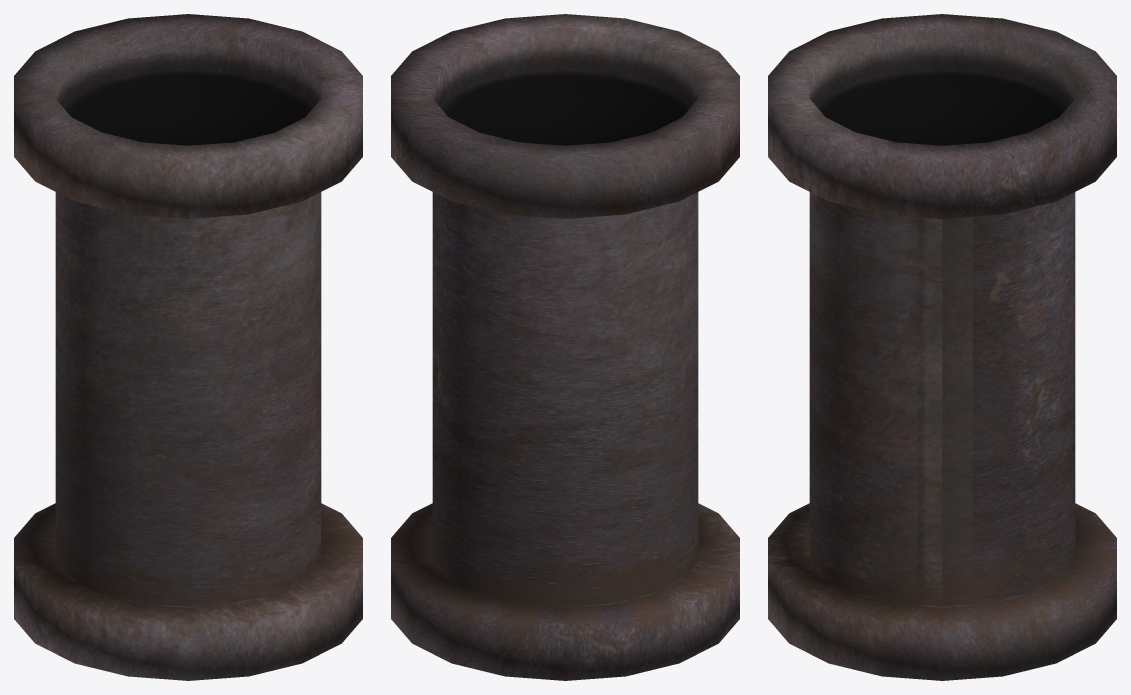
Rendered from Straight_Pipe.fbx.
The picture shows the model from 3 angles, left to right: view 1: azimuth 30°, elevation 25°; view 2: azimuth 150°, elevation 25°; view 3: azimuth 270°, elevation 25°; orthographic projection.
Parts seen in each view (by area): view 1: Straight_pipe; view 2: Straight_pipe; view 3: Straight_pipe.
Boxes of the visible parts, x1,y1,x2,y2 form: Straight_pipe: (14,14,362,680); Straight_pipe: (391,14,739,680); Straight_pipe: (768,14,1116,680).
Bounding box in the file's own units: 3.97 × 6.39 × 3.9.
